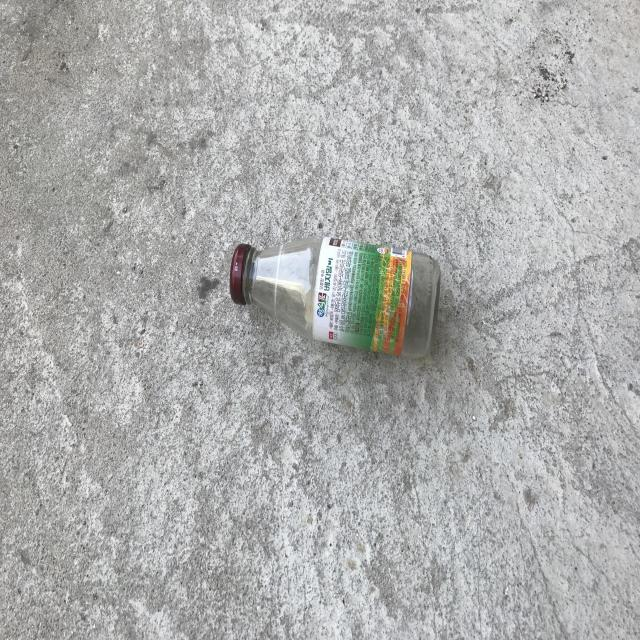glass: (230, 236, 441, 358)
